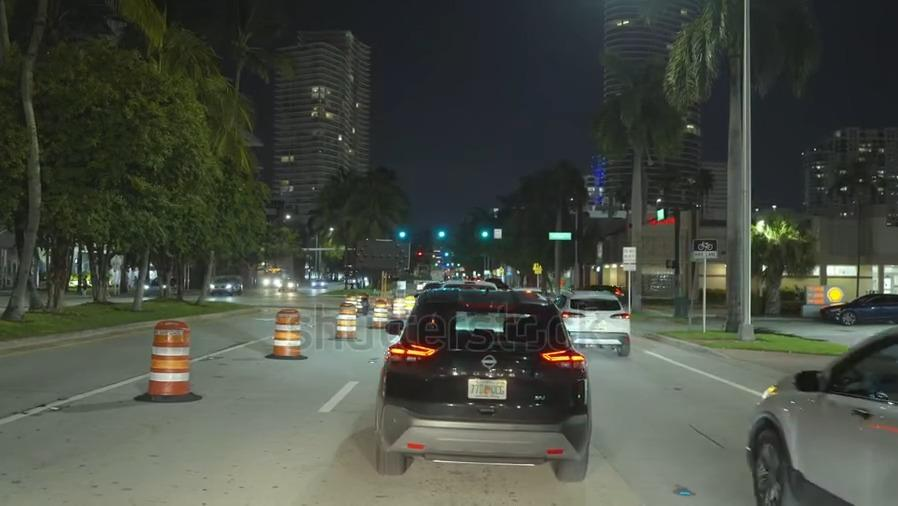car: (380, 287, 586, 483), (748, 329, 898, 506), (568, 288, 634, 347), (824, 286, 898, 323), (140, 273, 182, 298), (203, 273, 244, 298), (257, 271, 282, 291), (279, 276, 299, 295), (311, 277, 327, 290)
cone: (145, 317, 193, 397), (269, 304, 300, 359), (333, 299, 357, 343), (371, 297, 387, 330), (390, 293, 405, 319)
traffic light: (431, 224, 450, 245), (477, 225, 494, 245), (393, 225, 411, 242)
wheel: (748, 423, 796, 506)
